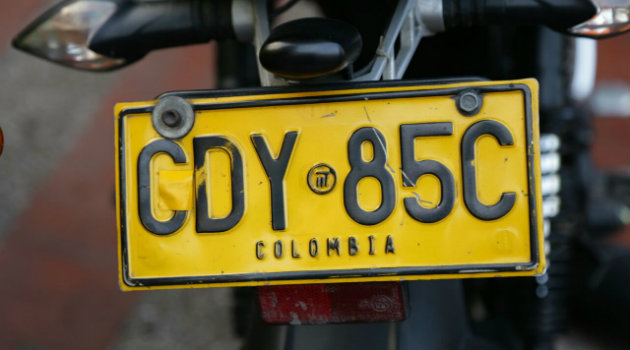placa_moto: (114, 75, 551, 295)
